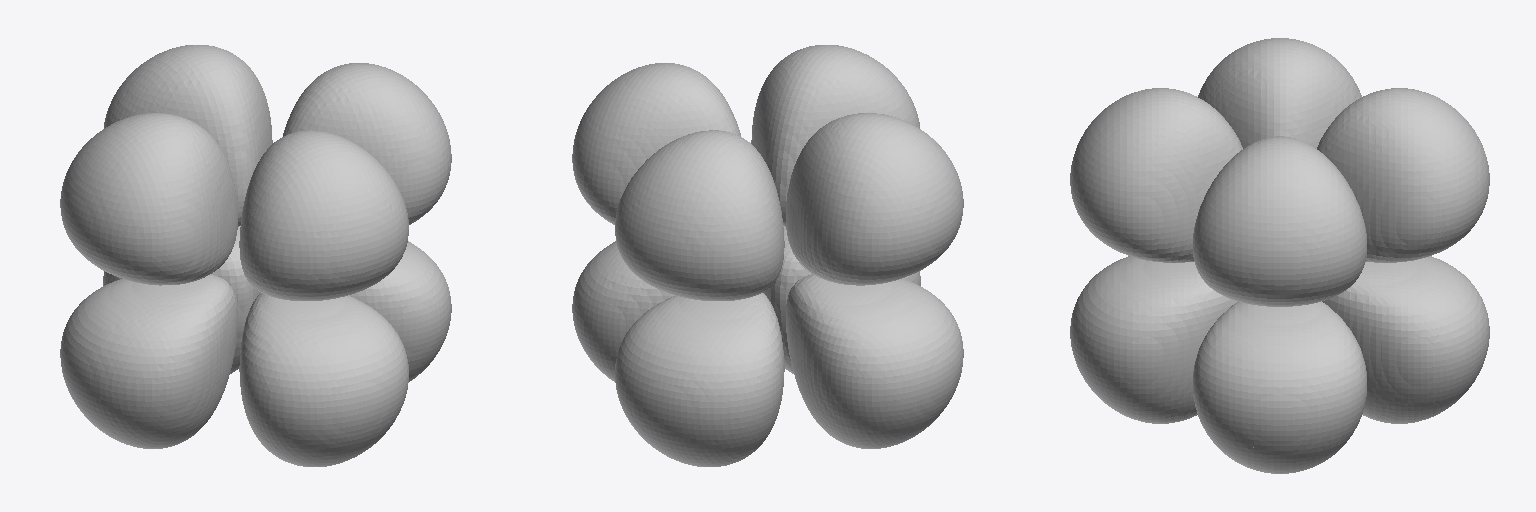
Rendered from orb_n=4_ l=3 _m=2.obj.
3 renders of one model, left to right at view 1: azimuth 30°, elevation 25°; view 2: azimuth 150°, elevation 25°; view 3: azimuth 270°, elevation 25°, orthographic.
Visible parts, largest first — view 1: orb_n=4__l=3__m=2; view 2: orb_n=4__l=3__m=2; view 3: orb_n=4__l=3__m=2.
Boxes of the visible parts, box(x1,y1,x2,y2) form: orb_n=4__l=3__m=2: box(60, 45, 451, 466); orb_n=4__l=3__m=2: box(572, 45, 963, 466); orb_n=4__l=3__m=2: box(1070, 38, 1489, 473).
Bounding box in the file's own units: 61.28 × 51.97 × 61.28.